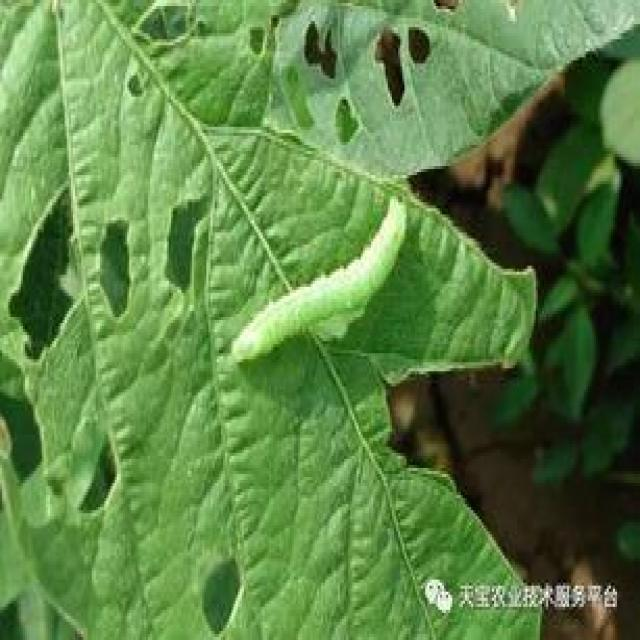BeetArmyWorm-Larva-: (225, 194, 411, 372)
